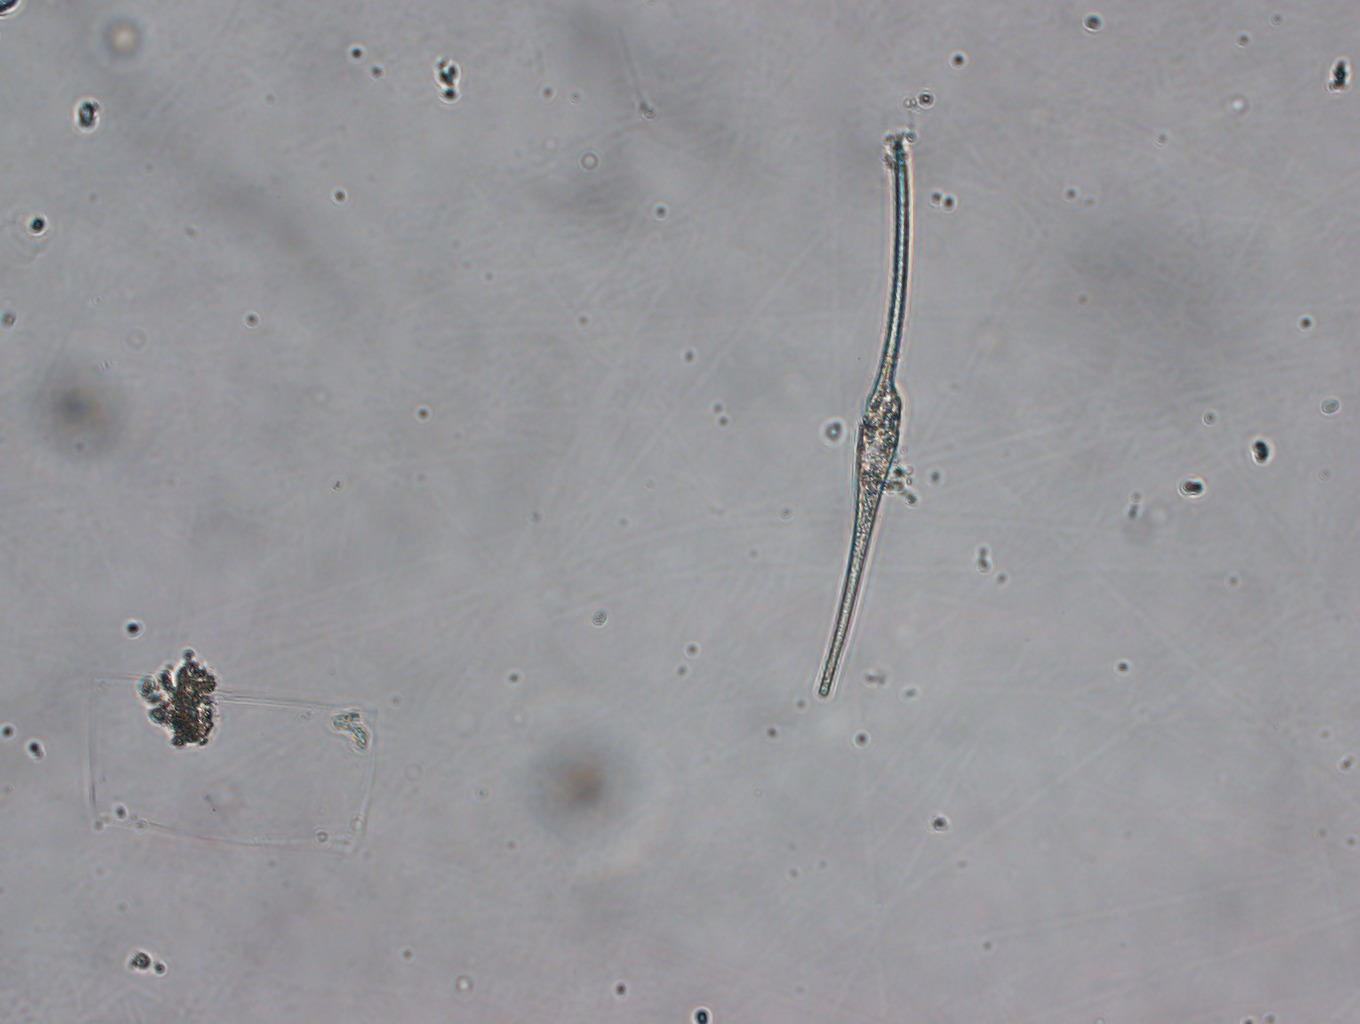ceratium fusus: (811, 131, 914, 705)
helicotheca: (85, 648, 389, 856)
